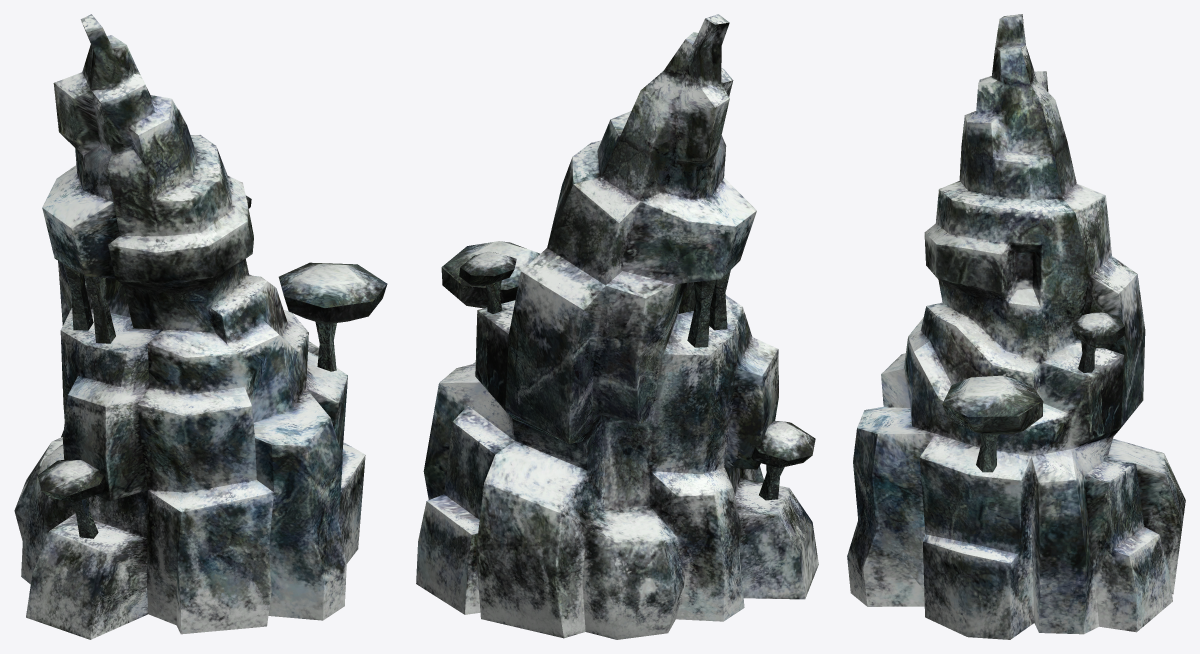
Rendered from northtundra_potal.fbx.
3 views of the same model, side by side, from view 1: azimuth 30°, elevation 25°; view 2: azimuth 150°, elevation 25°; view 3: azimuth 270°, elevation 25° (orthographic). The views are drawn at different scales.
Parts seen in each view (by area): view 1: northtundra_potal; view 2: northtundra_potal; view 3: northtundra_potal.
Boxes of the visible parts, x1=… form: northtundra_potal: x1=14, y1=14, x2=387, y2=639; northtundra_potal: x1=416, y1=14, x2=818, y2=639; northtundra_potal: x1=847, y1=14, x2=1185, y2=639.
Size of the model in its own units: 12.91 by 20.19 by 11.98.
